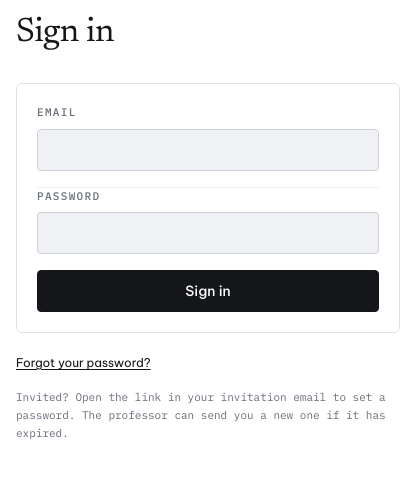
Test case: shows the problem detail when the credentials are rejected
Type "prof@example.edu" into the field labelled "Email" at (208, 150), box [37,128,379,170]
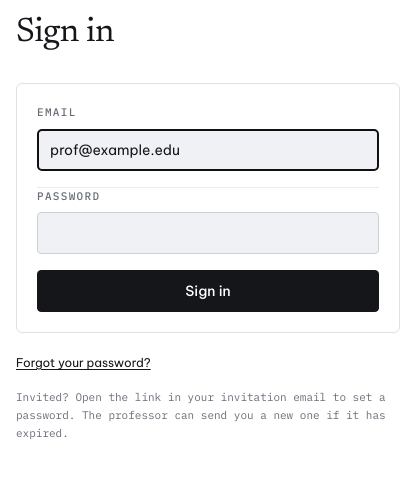
Type "wrong" into the password field labelled "Password" at (208, 233), box [37,212,379,254]
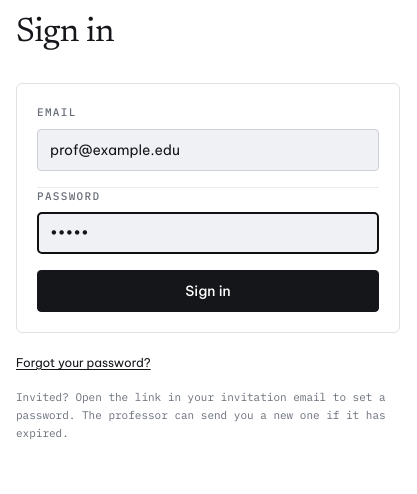
Click the button "Sign in" at (208, 291), box [37,270,379,312]
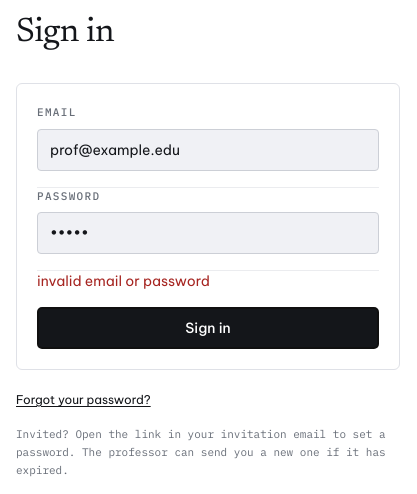
Now the message reads "invalid email or password", box [37,272,210,290]
